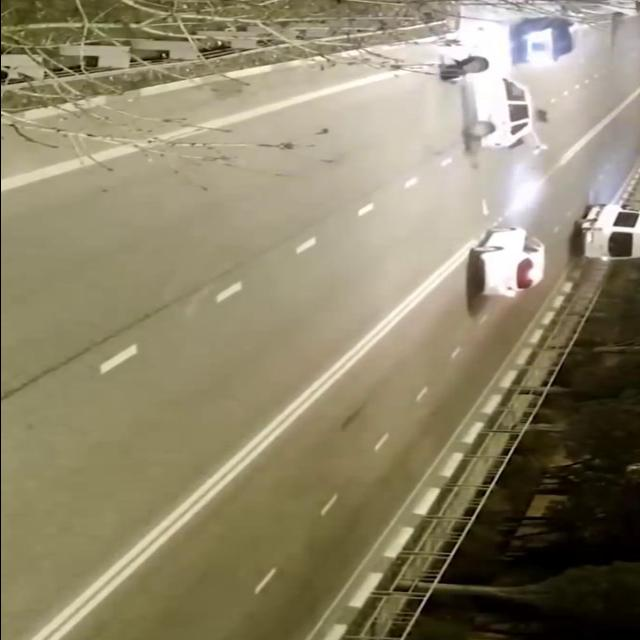accident: (432, 42, 554, 160)
